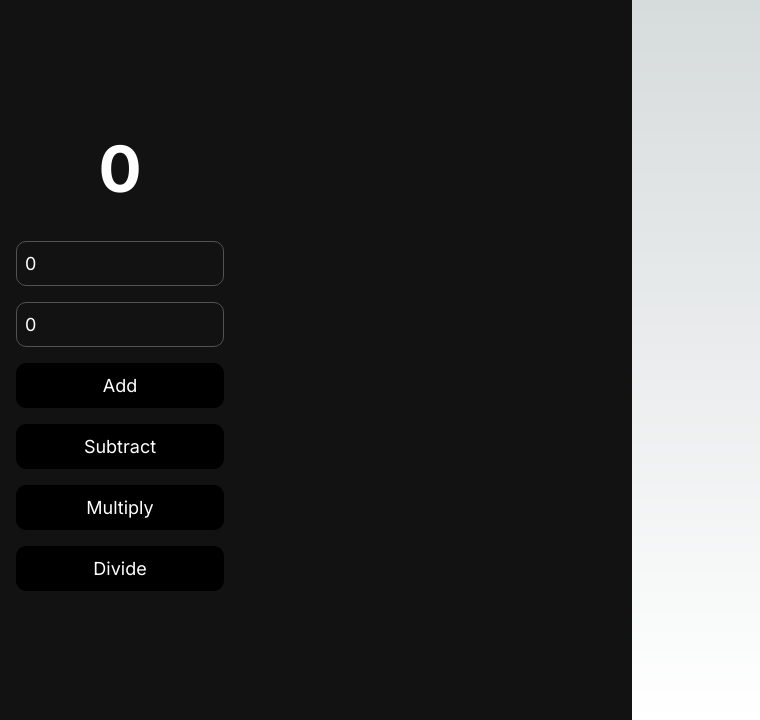
Scenario: Calculator › substracts numbers
The width and height of the screenshot is (760, 720).
Replace the text in the number field with test id "num1" with "10" at (120, 264), box [16, 241, 224, 286]
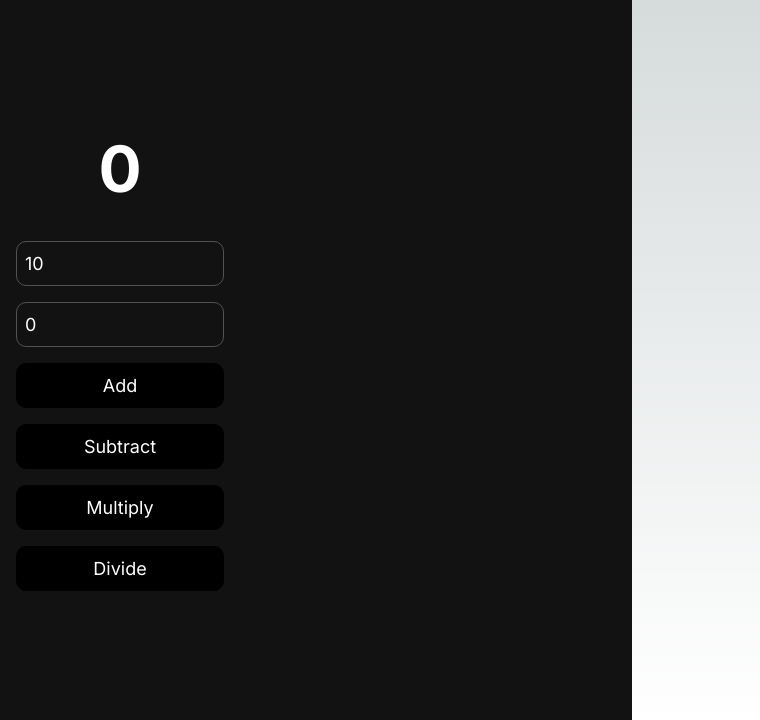
Replace the text in the number field with test id "num2" with "8" at (120, 324), box [16, 302, 224, 347]
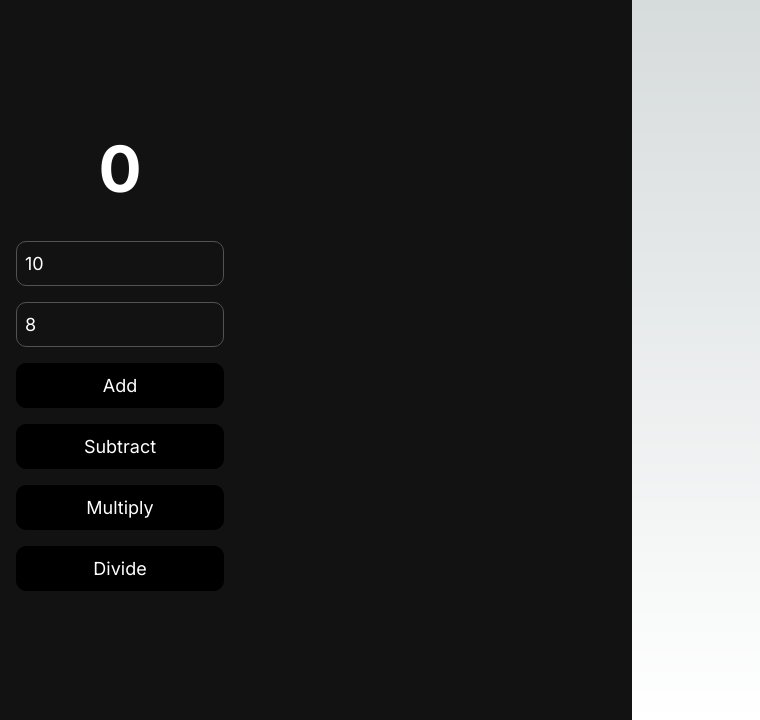
Click the button with test id "subtract".
click(120, 446)  # box [16, 424, 224, 469]
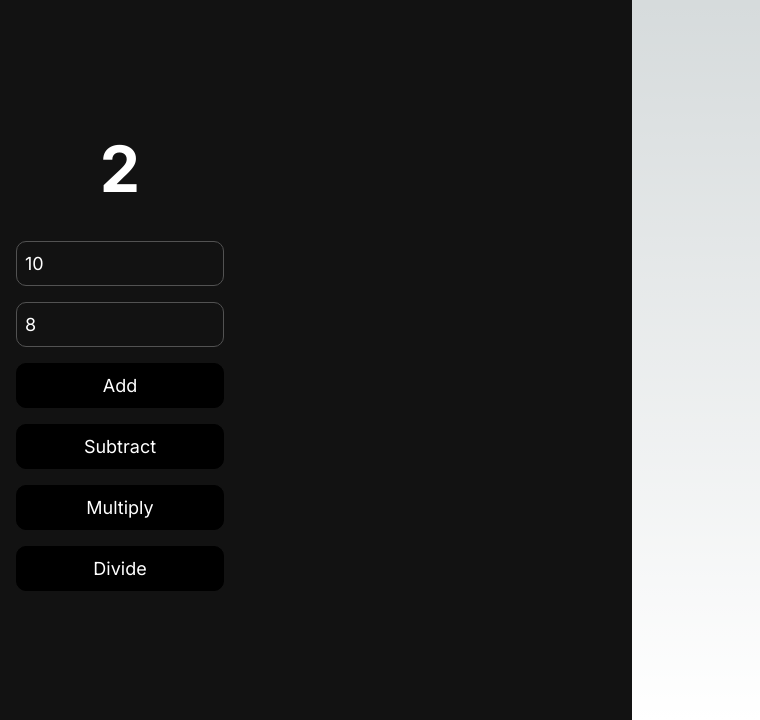
expect the text with test id "result" reads "2": met, box [100, 130, 140, 207]
